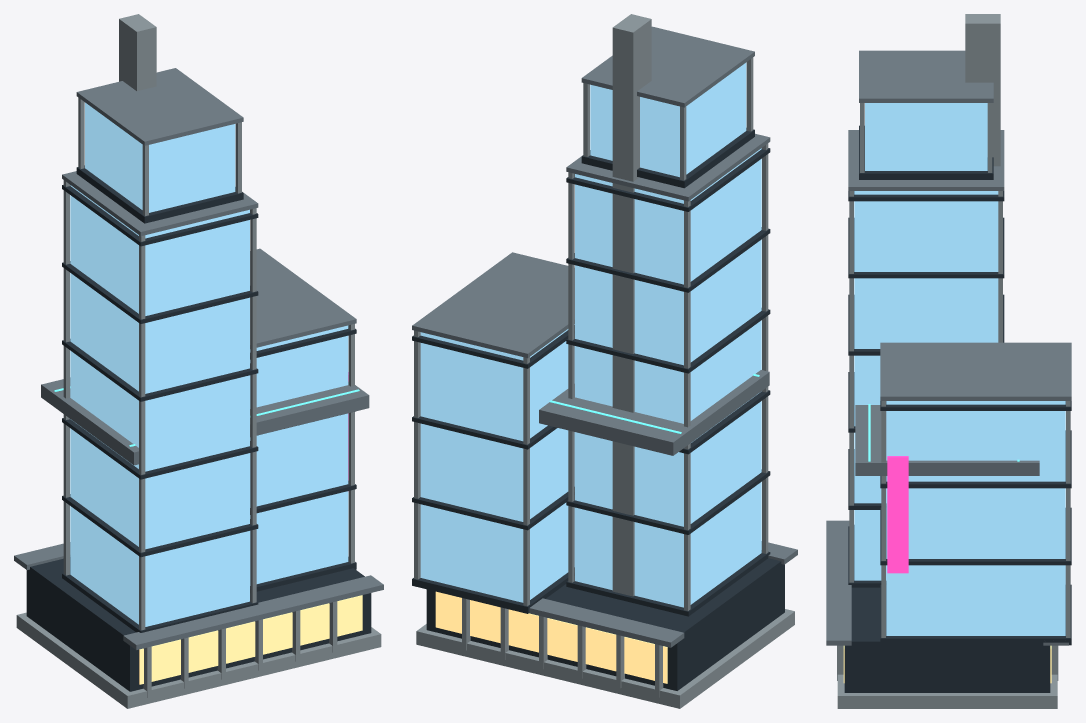
File: vrx_city_exchange_b_LOD1.fbx
3 views of the same model, side by side, from view 1: azimuth 30°, elevation 25°; view 2: azimuth 150°, elevation 25°; view 3: azimuth 270°, elevation 25° (orthographic). The views are drawn at different scales.
Visible parts, largest first — view 1: vrx_city_exchange_b_LOD1; view 2: vrx_city_exchange_b_LOD1; view 3: vrx_city_exchange_b_LOD1.
Part boxes in pixels (x1=…): vrx_city_exchange_b_LOD1: x1=14, y1=14, x2=383, y2=708; vrx_city_exchange_b_LOD1: x1=412, y1=14, x2=797, y2=708; vrx_city_exchange_b_LOD1: x1=826, y1=14, x2=1071, y2=708.
Bounding box in the file's own units: 41 × 94.5 × 34.6.
